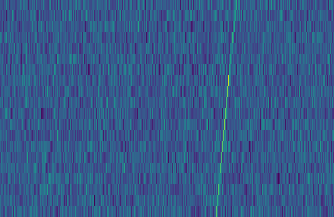signal: (212, 0, 242, 217)
